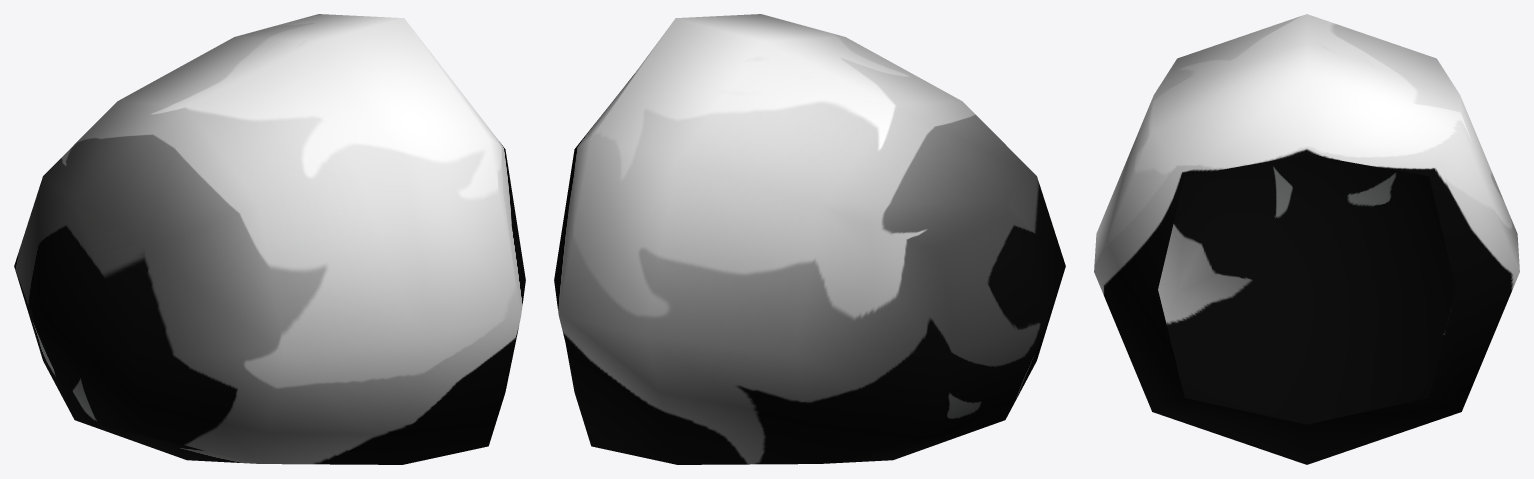
Rendered from FireBall_VFX_Model.fbx.
The picture shows the model from 3 angles, left to right: view 1: azimuth 30°, elevation 25°; view 2: azimuth 150°, elevation 25°; view 3: azimuth 270°, elevation 25°; orthographic projection. The views are drawn at different scales.
Visible parts, largest first — view 1: Cube; view 2: Cube; view 3: Cube.
Boxes of the visible parts, bbox=[...] form: Cube: bbox=[14, 14, 525, 464]; Cube: bbox=[554, 14, 1065, 464]; Cube: bbox=[1094, 14, 1519, 464].
Size of the model in its own units: 177 by 174 by 174.
